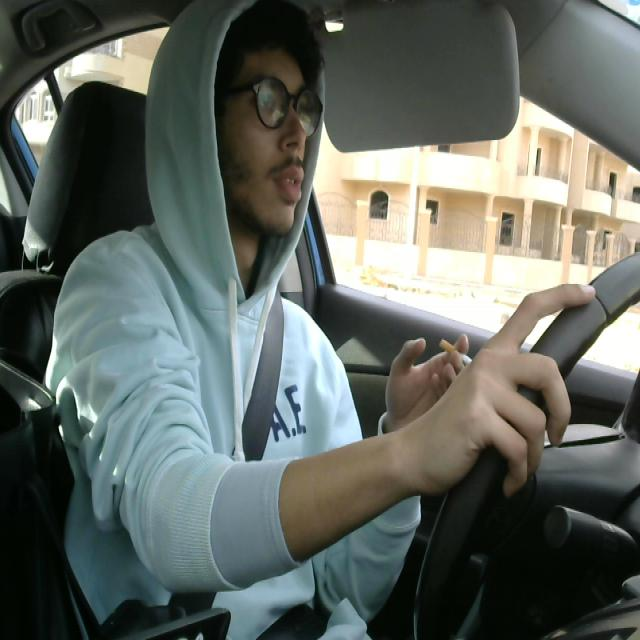smoking: (437, 331, 482, 383)
